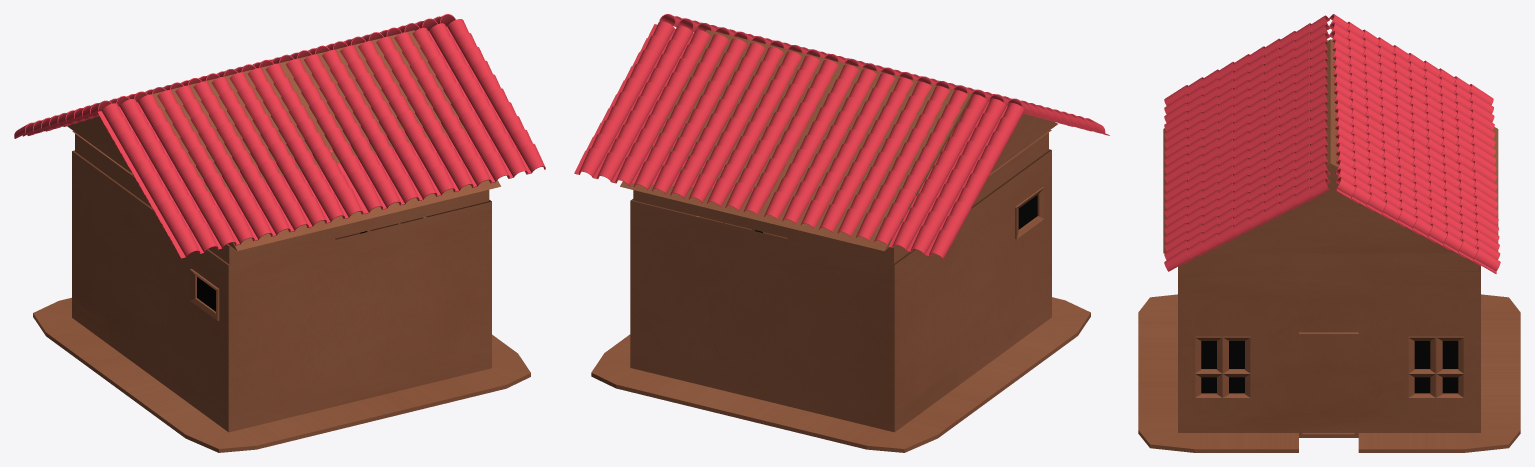
File: house5.fbx
3 views of the same model, side by side, from view 1: azimuth 30°, elevation 25°; view 2: azimuth 150°, elevation 25°; view 3: azimuth 270°, elevation 25° (orthographic). The views are drawn at different scales.
Parts seen in each view (by area): view 1: Cube, roof1, Cube.001, Circle.001; view 2: Cube, Circle.001, Cube.001, roof1; view 3: Cube, roof1, Circle.001, Cube.001.
Part boxes in pixels (bbox=[...]): Cube: bbox=[33, 131, 530, 452]; roof1: bbox=[97, 19, 545, 258]; Cube.001: bbox=[67, 30, 500, 250]; Circle.001: bbox=[14, 14, 455, 138]; Cube: bbox=[591, 130, 1090, 452]; Circle.001: bbox=[574, 21, 1024, 259]; Cube.001: bbox=[620, 29, 1058, 251]; roof1: bbox=[659, 14, 1109, 135]; Cube: bbox=[1138, 253, 1520, 452]; roof1: bbox=[1164, 15, 1329, 271]; Circle.001: bbox=[1329, 14, 1500, 273]; Cube.001: bbox=[1163, 39, 1498, 253].
Size of the model in its own units: 559 by 417 by 521.
Materials: 5 (2 with a texture image).
